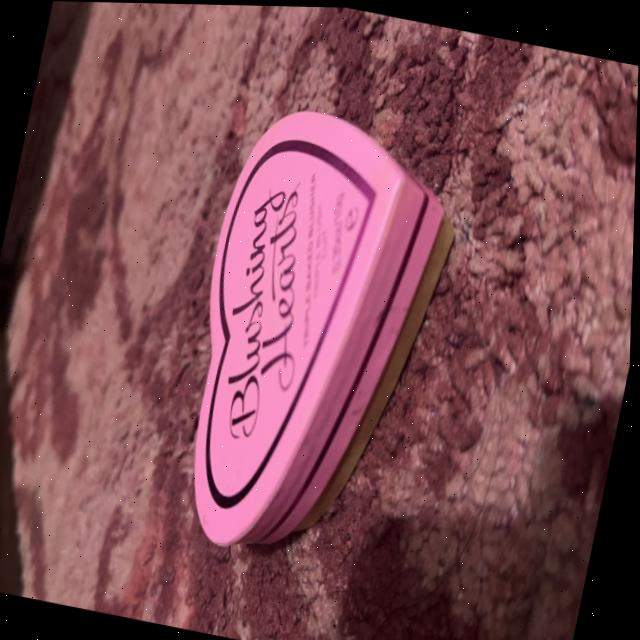blush: (157, 18, 487, 593)
